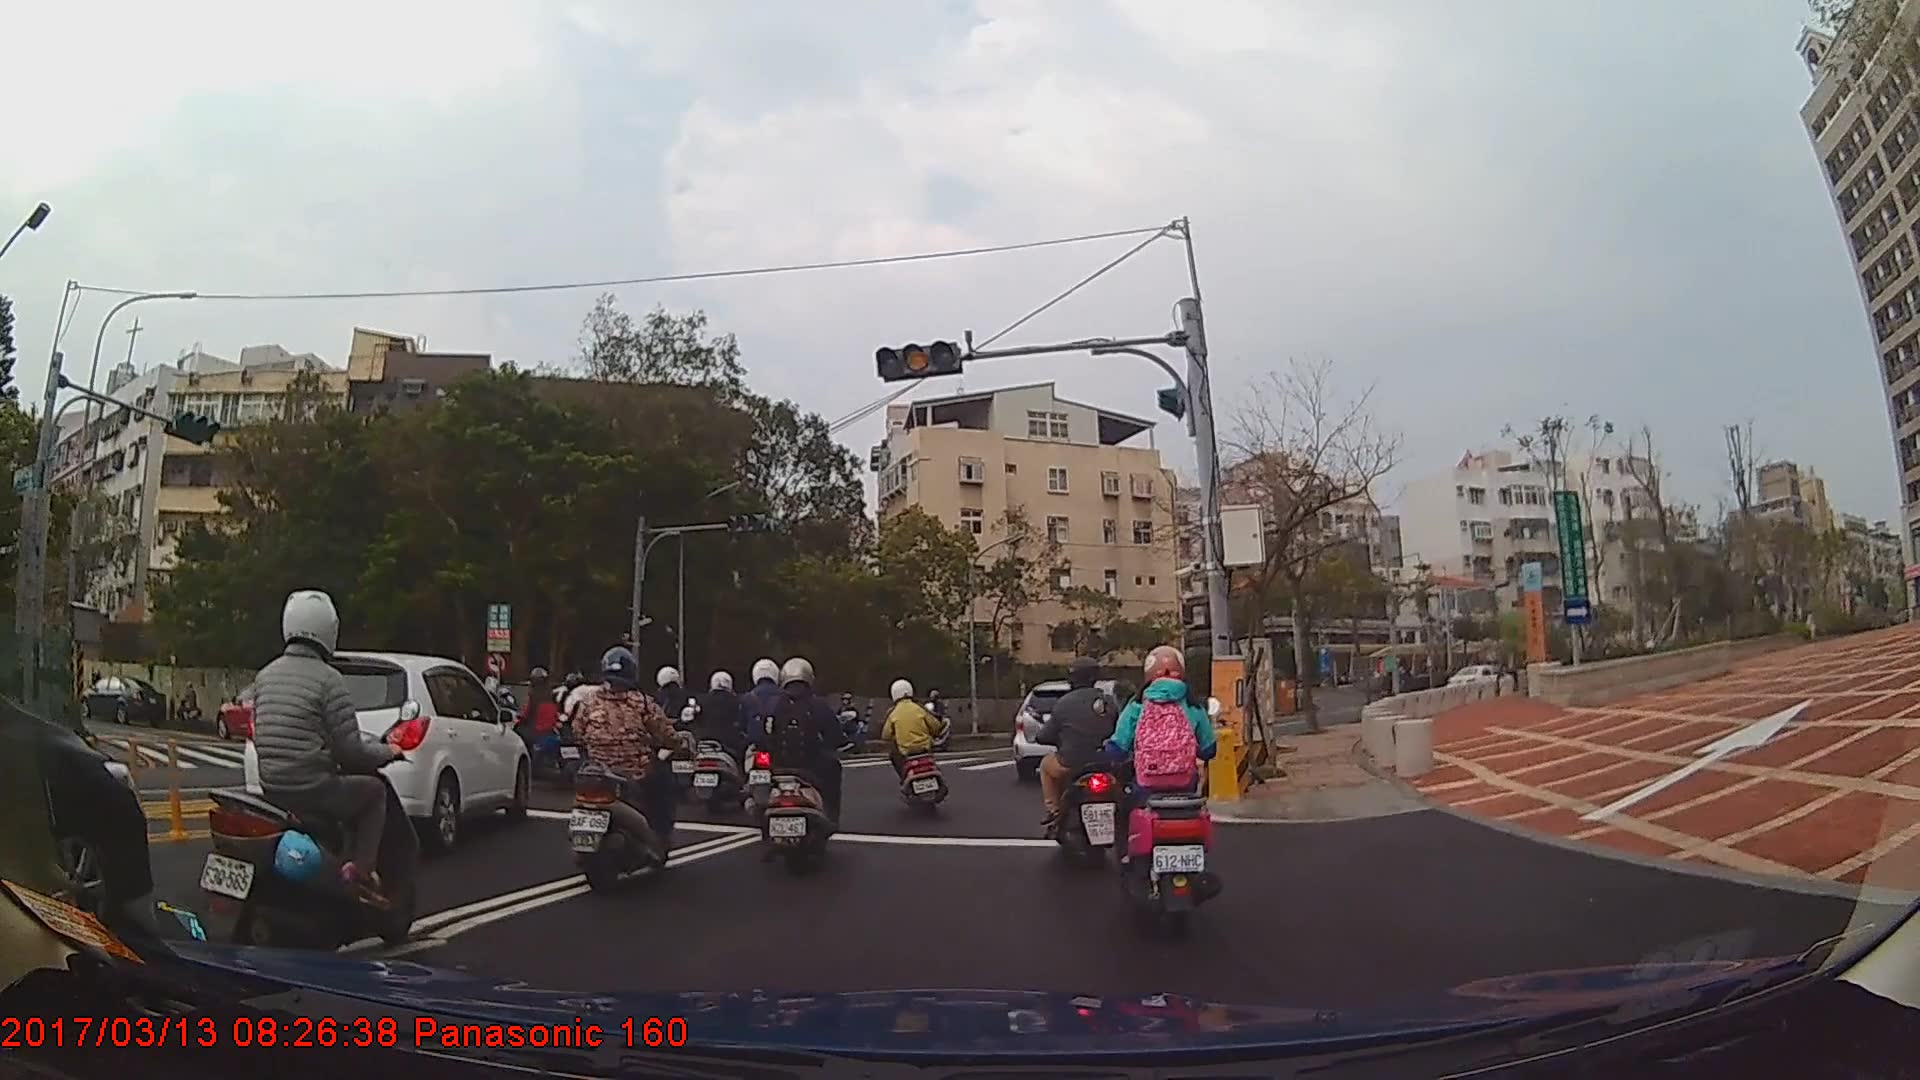rider: (202, 592, 426, 967), (1110, 642, 1222, 921), (567, 648, 685, 902), (1032, 656, 1135, 867), (758, 656, 847, 877), (733, 658, 797, 832), (876, 678, 954, 819), (498, 667, 580, 789), (691, 673, 758, 815), (636, 663, 702, 795), (831, 694, 866, 754), (919, 691, 950, 752)
vehicle: (240, 651, 530, 850), (0, 664, 151, 948), (215, 676, 317, 738), (70, 673, 169, 723)
